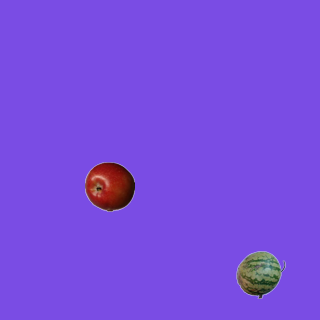Apple Braeburn: (84, 161, 134, 211)
Watermelon: (235, 249, 285, 299)
